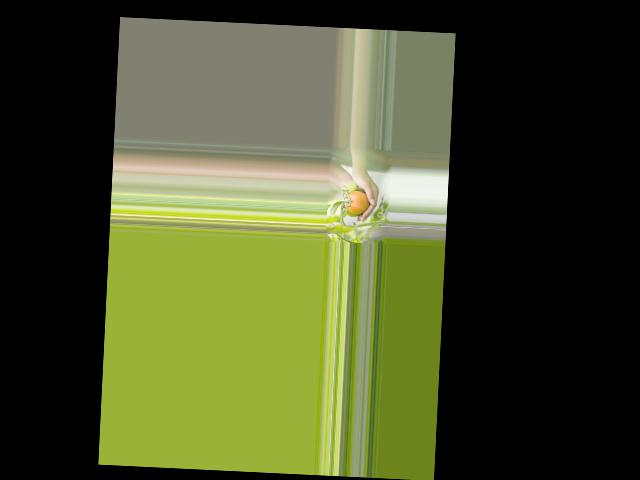tomato: (344, 190, 369, 214)
